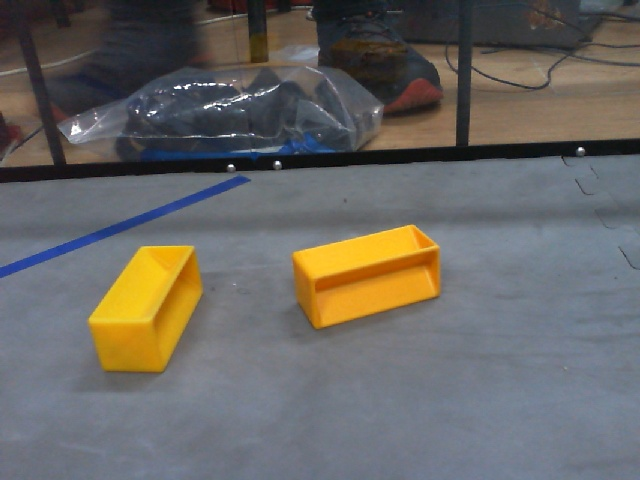YellowSample: (85, 242, 208, 380), (287, 224, 448, 327)
